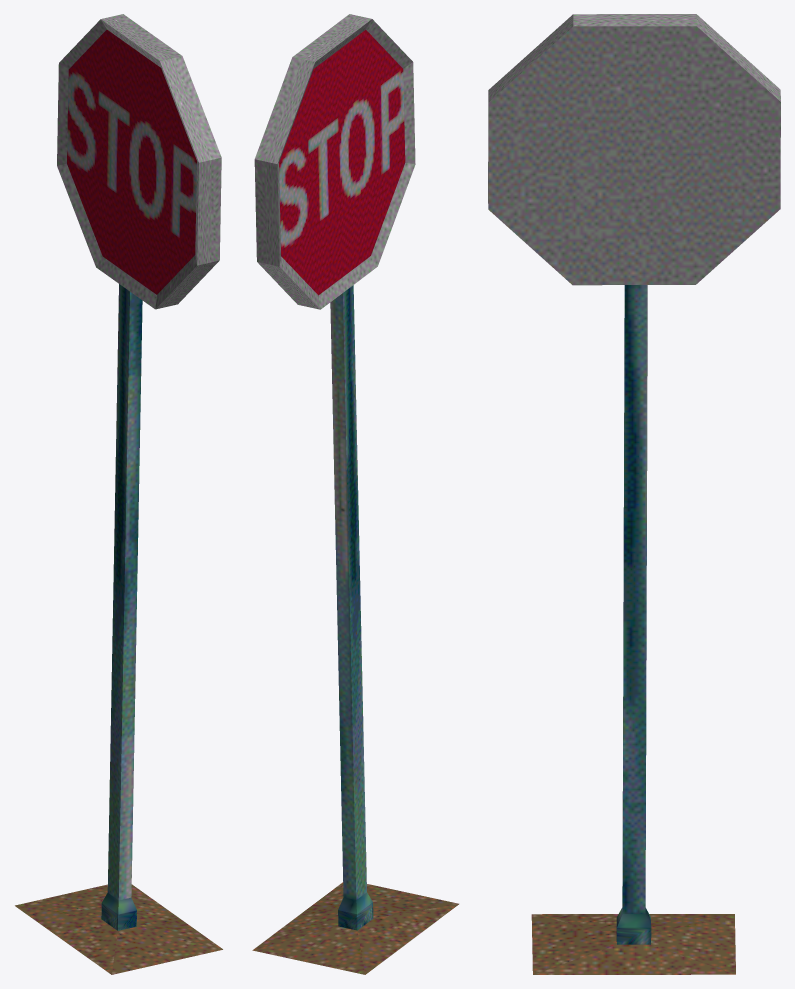
The model's file is StopSign.glb.
3 views of the same model, side by side, from view 1: azimuth 30°, elevation 25°; view 2: azimuth 150°, elevation 25°; view 3: azimuth 270°, elevation 25° (orthographic). The views are drawn at different scales.
Visible parts, largest first — view 1: Stop; view 2: Stop; view 3: Stop.
Part boxes in pixels (left/top/right/bottom): Stop: left=15, top=14, right=222, bottom=974; Stop: left=252, top=14, right=458, bottom=974; Stop: left=488, top=14, right=780, bottom=974.
Size of what is drawn, in the model's own units: 1.82 by 13.52 by 3.82.
1 material, 1 textured.
